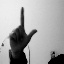l: (7, 6, 38, 51)
